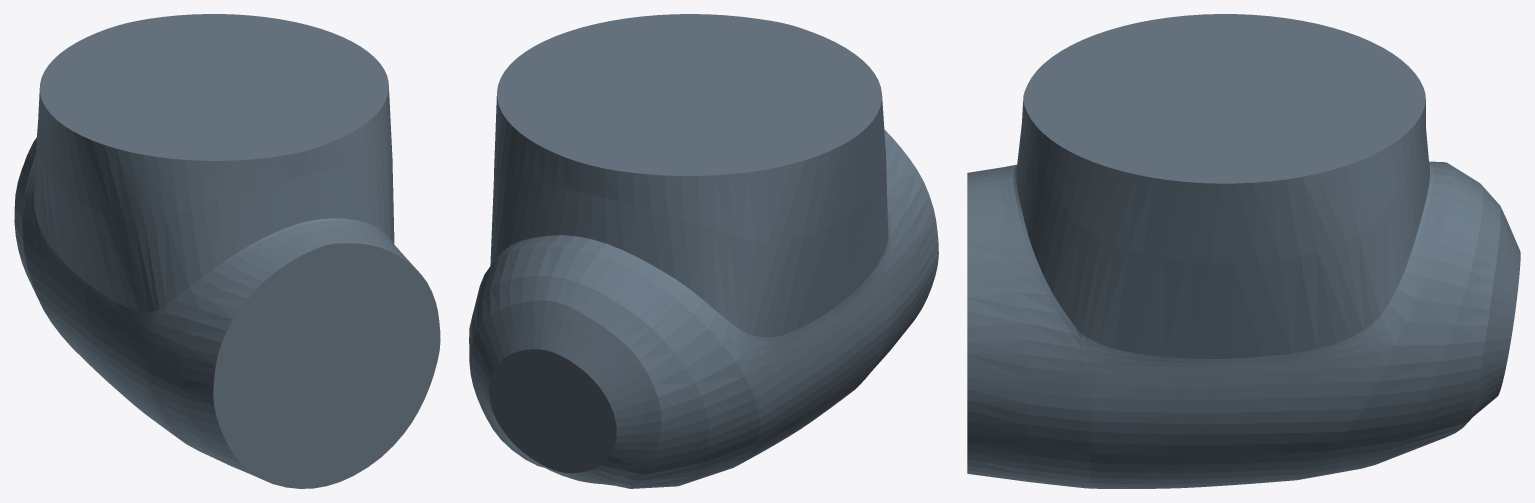
3 views of the same model, side by side, from view 1: azimuth 30°, elevation 25°; view 2: azimuth 150°, elevation 25°; view 3: azimuth 270°, elevation 25° (orthographic). The views are drawn at different scales.
Visible parts, largest first — view 1: MF1509_3_0; view 2: MF1509_3_0; view 3: MF1509_3_0.
Boxes of the visible parts, <box> form: MF1509_3_0: <box>14,14,440,488</box>; MF1509_3_0: <box>469,14,938,488</box>; MF1509_3_0: <box>967,14,1520,488</box>.
Bounding box in the file's own units: 131 × 181 × 135.
